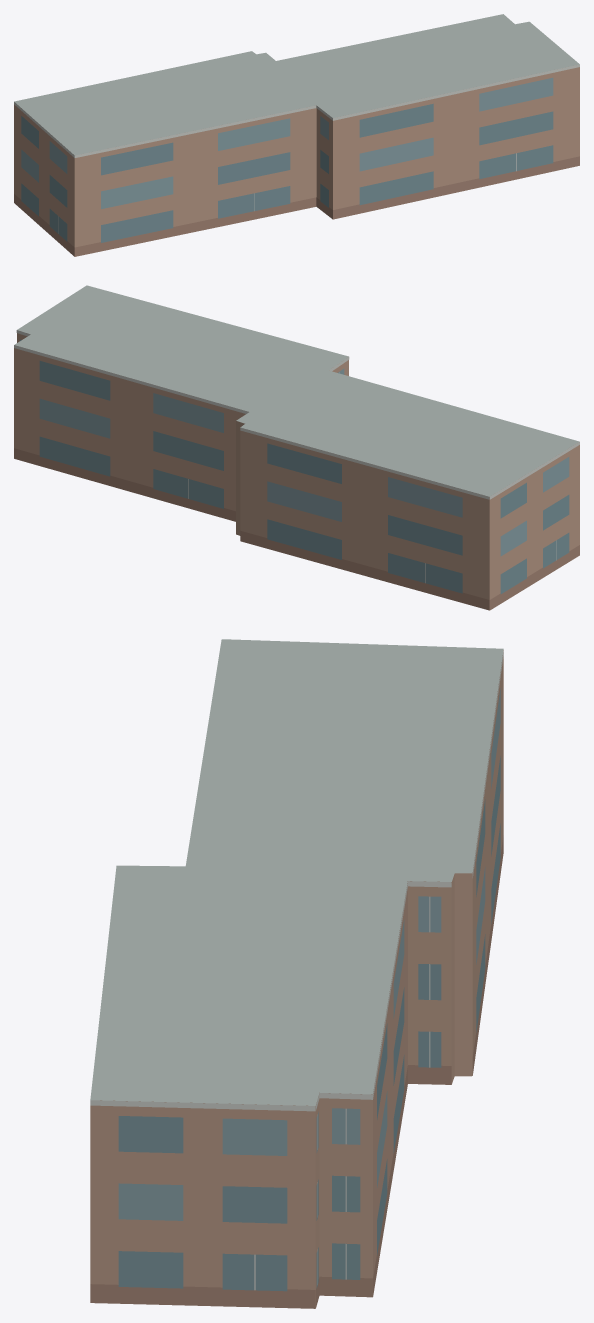
Rendered from survey-upis-32941098.glb.
3 renders of one model, top to bottom at view 1: azimuth 30°, elevation 25°; view 2: azimuth 150°, elevation 25°; view 3: azimuth 270°, elevation 25°, orthographic. The views are drawn at different scales.
Visible parts, largest first — view 1: survey-upis-32941098.tmp; view 2: survey-upis-32941098.tmp; view 3: survey-upis-32941098.tmp.
Boxes of the visible parts, left/top/right/bottom form: survey-upis-32941098.tmp: left=14, top=14, right=579, bottom=256; survey-upis-32941098.tmp: left=14, top=285, right=579, bottom=610; survey-upis-32941098.tmp: left=90, top=639, right=503, bottom=1308.
Size of the model in its own units: 45.18 by 9.15 by 16.91.
